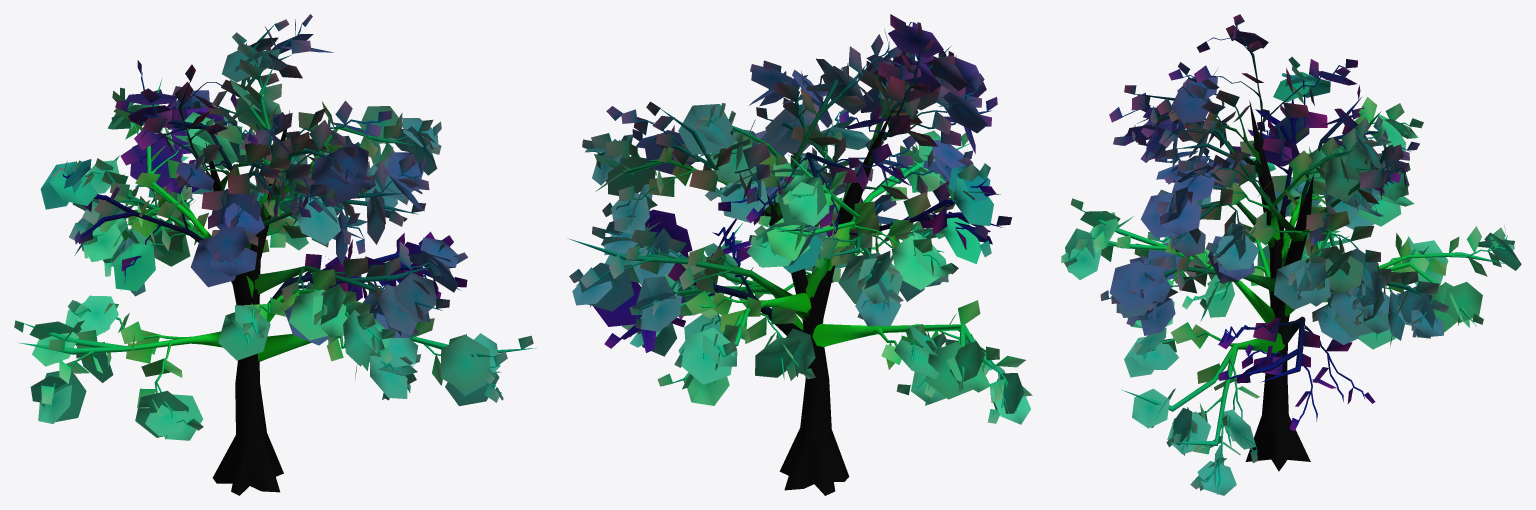
The model's file is OAK TREE LEAF TEST.fbx.
The picture shows the model from 3 angles, left to right: view 1: azimuth 30°, elevation 25°; view 2: azimuth 150°, elevation 25°; view 3: azimuth 270°, elevation 25°; orthographic projection. The views are drawn at different scales.
Parts seen in each view (by area): view 1: leaf oak_1, _0; view 2: leaf oak_1, _0; view 3: leaf oak_1, _0.
Boxes of the visible parts, x1,y1,x2,y2 form: leaf oak_1: (14,14,533,440); _0: (18,23,536,495); leaf oak_1: (569,14,1032,424); _0: (567,22,1016,495); leaf oak_1: (1061,14,1521,495); _0: (1068,23,1514,489).
Bounding box in the file's own units: 1315 × 1300 × 1330.
